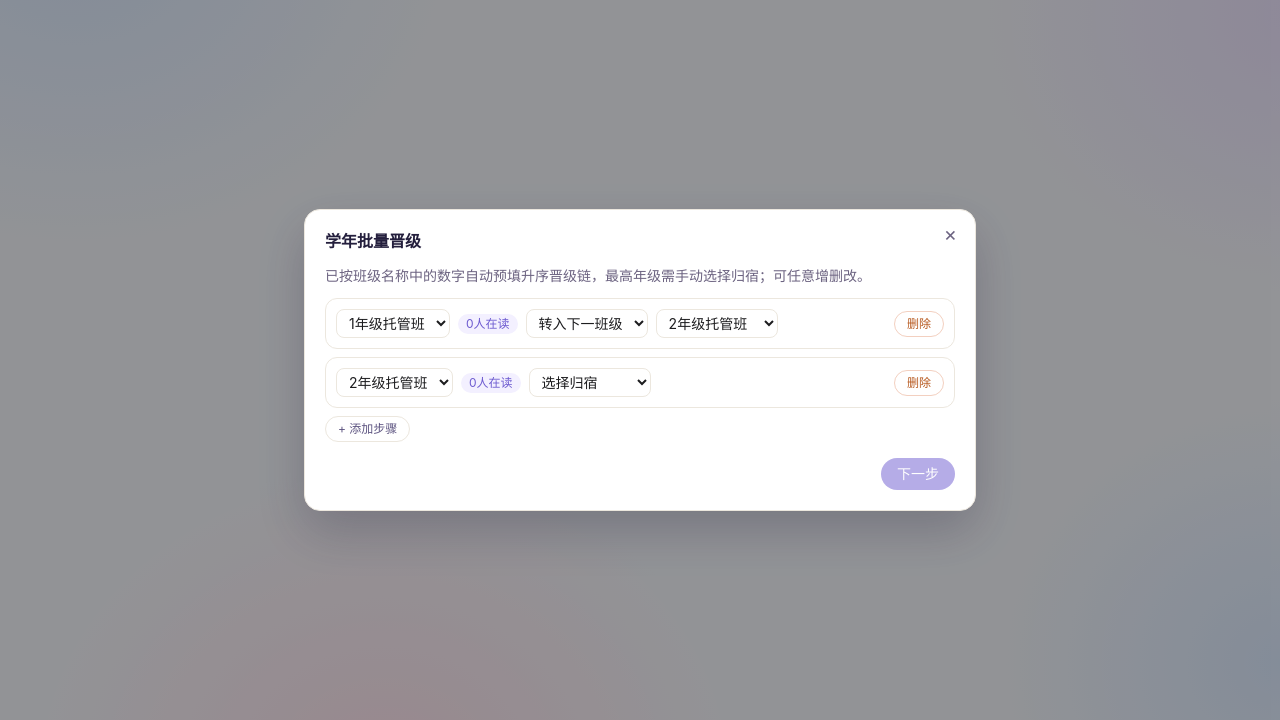
AnnualPromotionWizard › disables moving to the confirm screen until every step has its required fields filled
The width and height of the screenshot is (1280, 720).
expect the button "下一步" is disabled: met, box [881,458,955,490]
Step 1. Select "停用" in the 2nd dropdown named "归宿" → (590, 382), box [529,368,651,397]
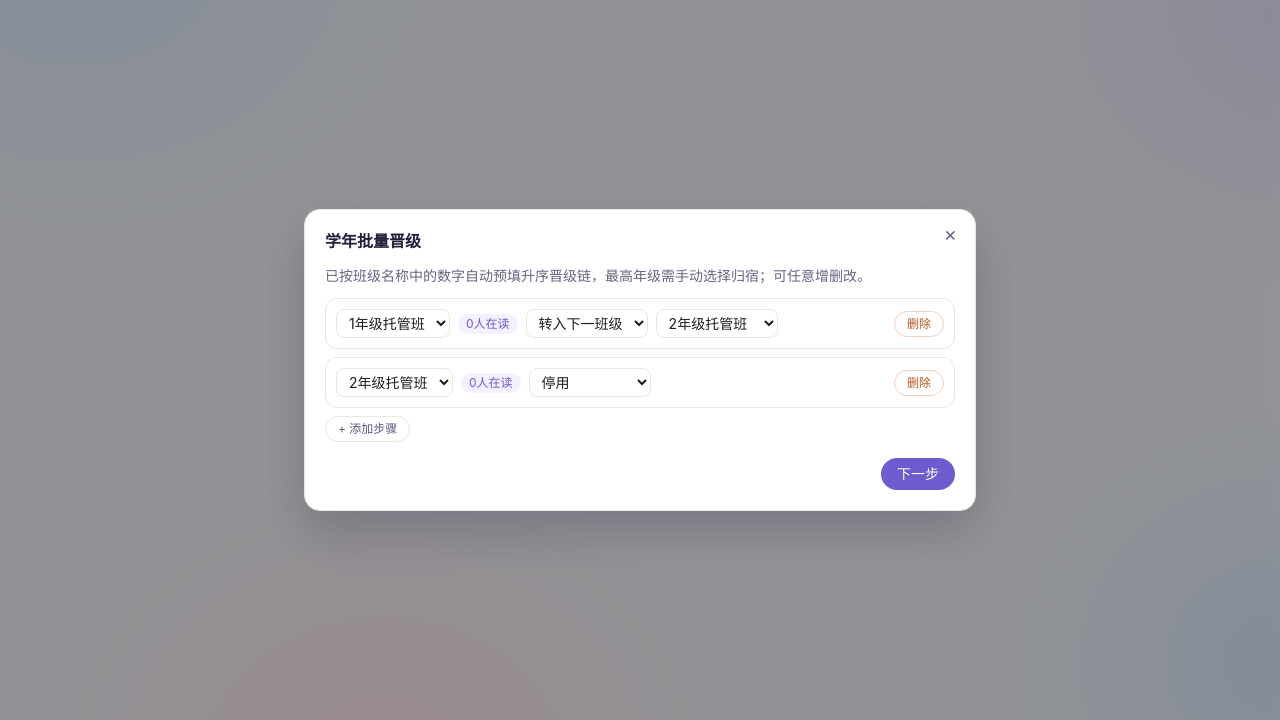
expect the button "下一步" is enabled: met, box [881,458,955,490]
